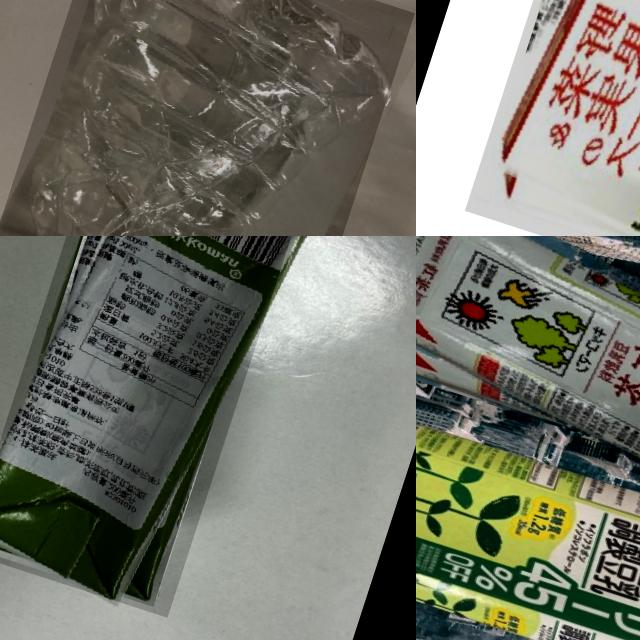Aluminium Foil: (0, 236, 303, 617), (416, 236, 640, 543), (416, 378, 640, 640), (463, 0, 640, 236)
Transparent Plastic Bottle: (0, 0, 413, 236)
